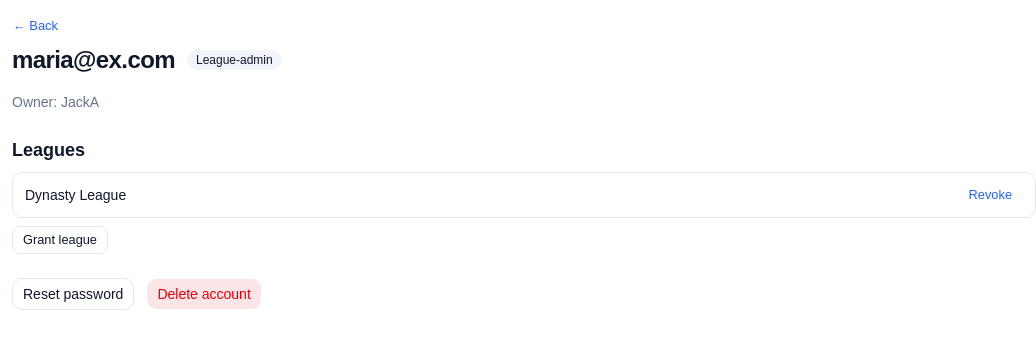
Scenario: a failed revoke shows the error message inline
Click the button "Revoke" at (990, 195), box x1=958 y1=181 x2=1023 y2=209
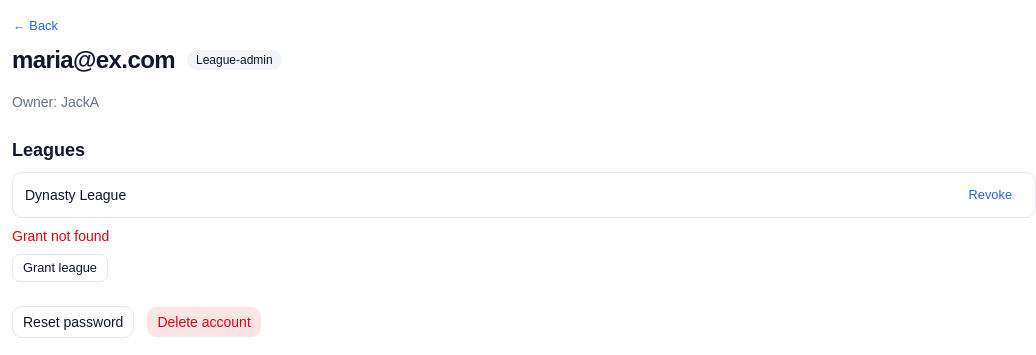
Result: the text "Grant not found" is shown at x1=12 y1=226 x2=109 y2=246
